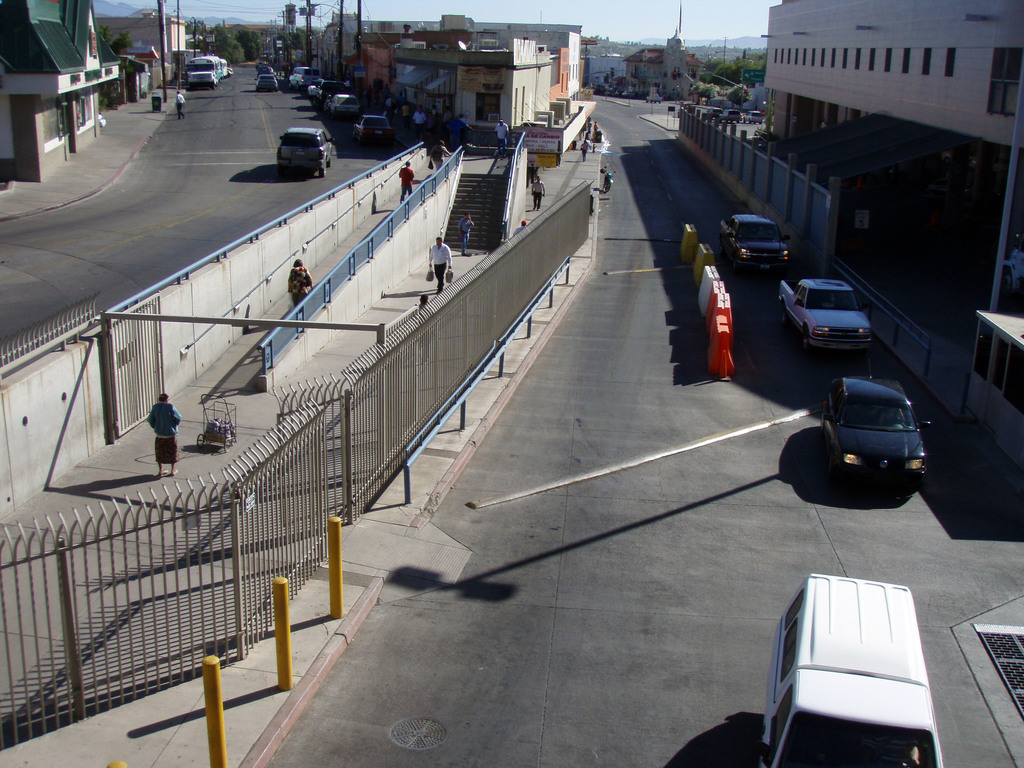car: (745, 541, 975, 768), (804, 354, 937, 500), (772, 263, 882, 356), (711, 200, 802, 278), (265, 116, 350, 189), (246, 64, 286, 98)
truck: (179, 46, 230, 97)
